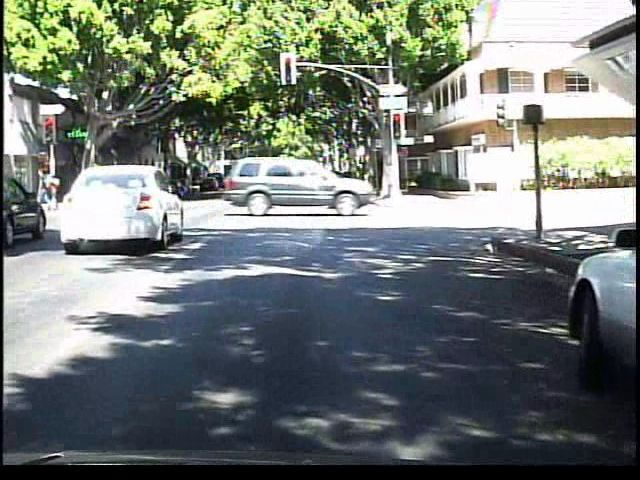person: (36, 165, 68, 210)
